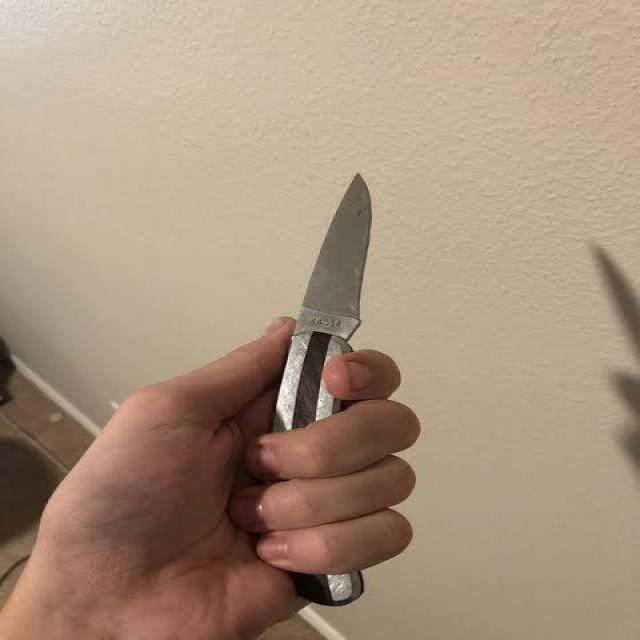knife: (292, 172, 372, 340)
